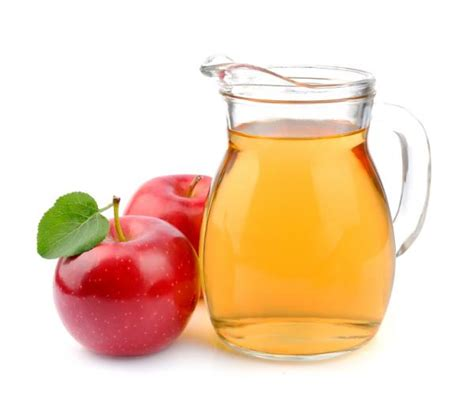apple: (50, 214, 203, 363), (124, 168, 217, 247)
